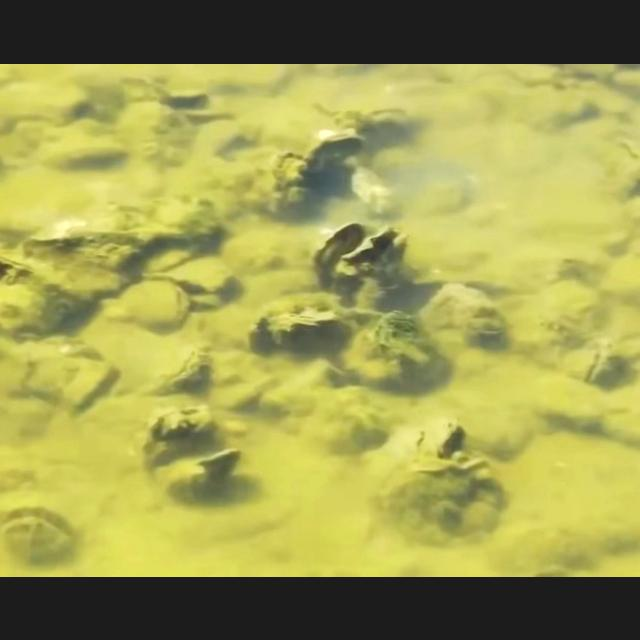Oyster-Closed: (384, 454, 510, 534), (351, 306, 452, 392), (1, 241, 128, 299), (426, 280, 510, 346), (256, 292, 350, 348), (146, 405, 222, 471), (120, 277, 196, 333), (277, 147, 327, 210), (567, 332, 623, 388), (162, 340, 216, 396)
Oyster-Open: (374, 412, 472, 474), (340, 224, 414, 300), (6, 498, 86, 564), (148, 255, 240, 307), (172, 444, 248, 502), (319, 219, 371, 295), (312, 124, 368, 192)
